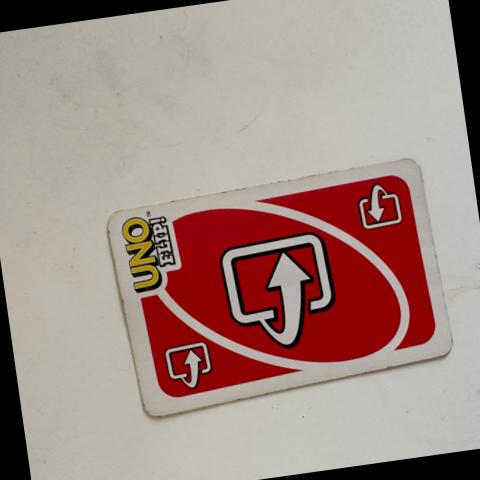3_red: (221, 233, 334, 347), (348, 187, 406, 230), (164, 341, 213, 391)
